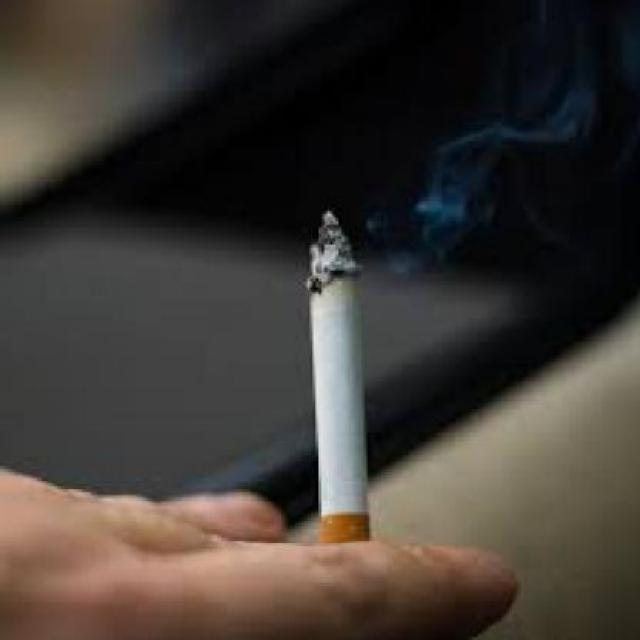cigarette: (301, 208, 390, 537)
